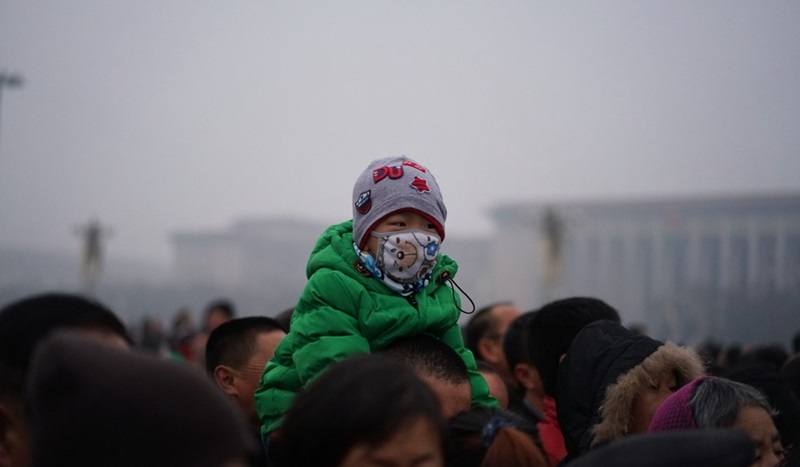face: (231, 333, 304, 406), (728, 410, 784, 467)
face_mask: (375, 203, 440, 281)
